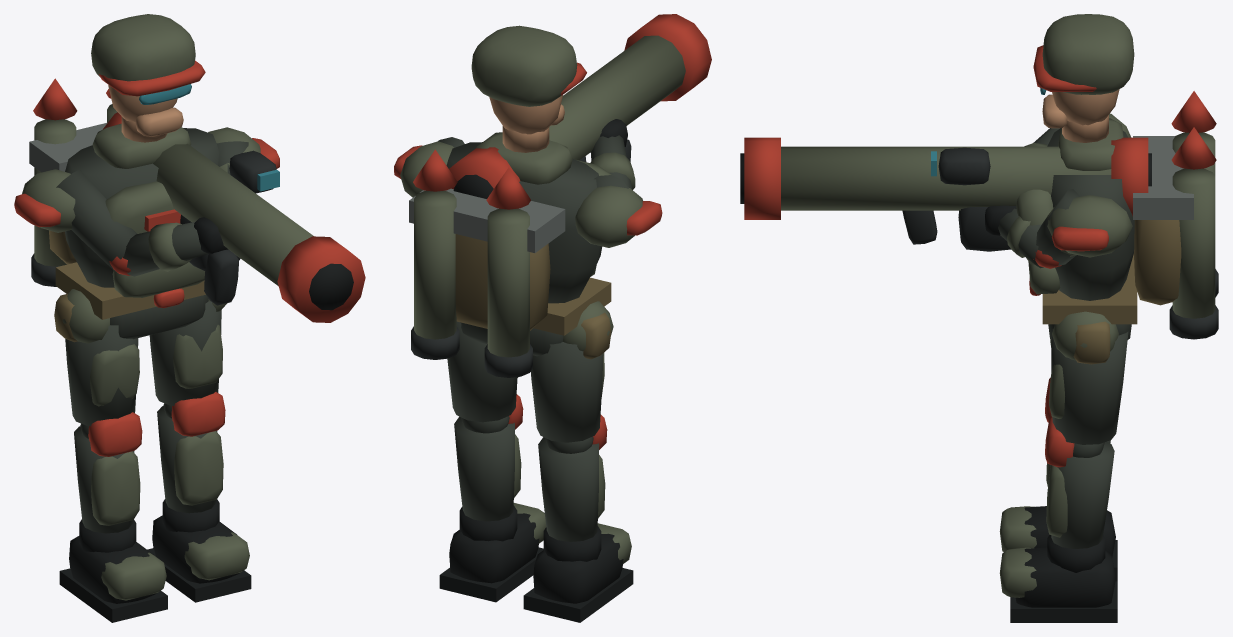
Rendered from Bastion_RocketSoldier_Static.obj.
3 views of the same model, side by side, from view 1: azimuth 30°, elevation 25°; view 2: azimuth 150°, elevation 25°; view 3: azimuth 270°, elevation 25° (orthographic).
Parts seen in each view (by area): view 1: Static_LauncherTube, Static_Thigh, Static_ShinGuard, Static_Helmet, Static_ThighPlate, Static_ToeCap, Static_Boot, Static_TorsoCore, Static_FrontRing, Static_KneePad, Static_Shin, Static_Sole (+30 smaller); view 2: Static_SpareRocketTube, Static_Shin, Static_Thigh, Static_LauncherTube, Static_Boot, Static_Helmet, Static_TorsoCore, Static_RocketPack, Static_Sole, Static_PackFrame, Static_LeftShoulder, Static_FrontRing (+20 smaller); view 3: Static_LauncherTube, Static_Helmet, Static_SpareRocketTube, Static_Thigh, Static_Boot, Static_TorsoCore, Static_Shin, Static_RocketPack, Static_PackFrame, Static_FrontRing, Static_RightShoulder, Static_ToeCap (+23 smaller).
Part boxes in pixels (bbox=[...]): Static_LauncherTube: bbox=[153, 143, 313, 285]; Static_Thigh: bbox=[65, 301, 221, 426]; Static_ShinGuard: bbox=[91, 431, 223, 525]; Static_Helmet: bbox=[91, 14, 195, 81]; Static_ThighPlate: bbox=[90, 324, 222, 406]; Static_ToeCap: bbox=[101, 532, 249, 600]; Static_Boot: bbox=[69, 515, 240, 603]; Static_TorsoCore: bbox=[65, 128, 219, 287]; Static_FrontRing: bbox=[277, 236, 365, 322]; Static_KneePad: bbox=[88, 392, 225, 456]; Static_Shin: bbox=[74, 406, 217, 533]; Static_Sole: bbox=[59, 548, 251, 622]; Static_SpareRocketTube: bbox=[414, 190, 529, 357]; Static_Shin: bbox=[454, 416, 599, 541]; Static_Thigh: bbox=[447, 321, 603, 442]; Static_LauncherTube: bbox=[549, 35, 685, 160]; Static_Boot: bbox=[449, 513, 623, 603]; Static_Helmet: bbox=[471, 25, 577, 106]; Static_TorsoCore: bbox=[446, 142, 602, 303]; Static_RocketPack: bbox=[455, 234, 550, 330]; Static_Sole: bbox=[439, 547, 633, 622]; Static_PackFrame: bbox=[409, 188, 565, 252]; Static_LeftShoulder: bbox=[575, 185, 642, 247]; Static_FrontRing: bbox=[624, 14, 711, 101]; Static_LauncherTube: bbox=[781, 146, 1111, 210]; Static_Helmet: bbox=[1042, 14, 1134, 94]; Static_SpareRocketTube: bbox=[1172, 132, 1215, 318]; Static_Thigh: bbox=[1051, 329, 1128, 444]; Static_Boot: bbox=[1015, 506, 1115, 607]; Static_TorsoCore: bbox=[1047, 128, 1134, 300]; Static_Shin: bbox=[1051, 440, 1114, 548]; Static_RocketPack: bbox=[1134, 220, 1181, 305]; Static_PackFrame: bbox=[1133, 136, 1193, 219]; Static_FrontRing: bbox=[744, 137, 780, 219]; Static_RightShoulder: bbox=[1047, 195, 1132, 257]; Static_ToeCap: bbox=[999, 506, 1036, 597].
Size of the model in its own units: 0.9548 by 2.04 by 1.56.
Materials: 1 (1 with a texture image).
